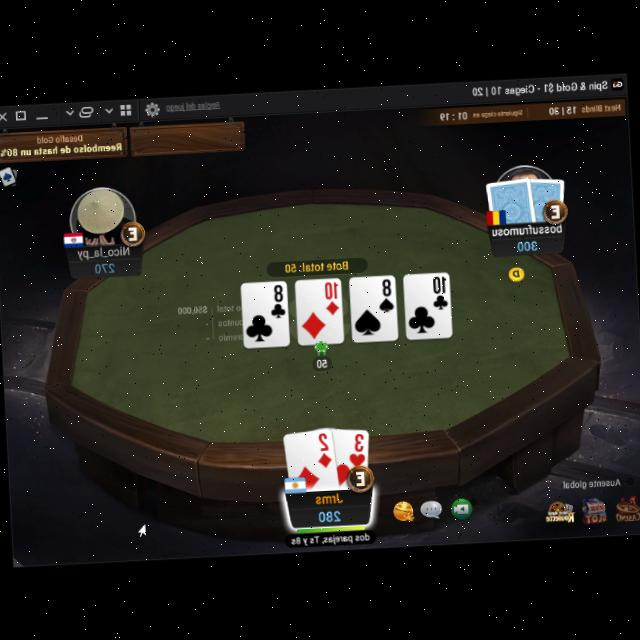2d: (314, 429, 334, 468)
3h: (347, 432, 368, 468), (346, 430, 367, 465), (268, 284, 288, 320)
8s: (376, 275, 394, 312)
Tc: (430, 272, 449, 309)
Td: (322, 277, 342, 316)
card_back: (484, 173, 536, 225), (524, 172, 568, 220)
dealer: (506, 260, 527, 280)
pot_text: (284, 257, 350, 271)
stack_text: (315, 503, 343, 522), (93, 258, 117, 272), (516, 236, 540, 250)
